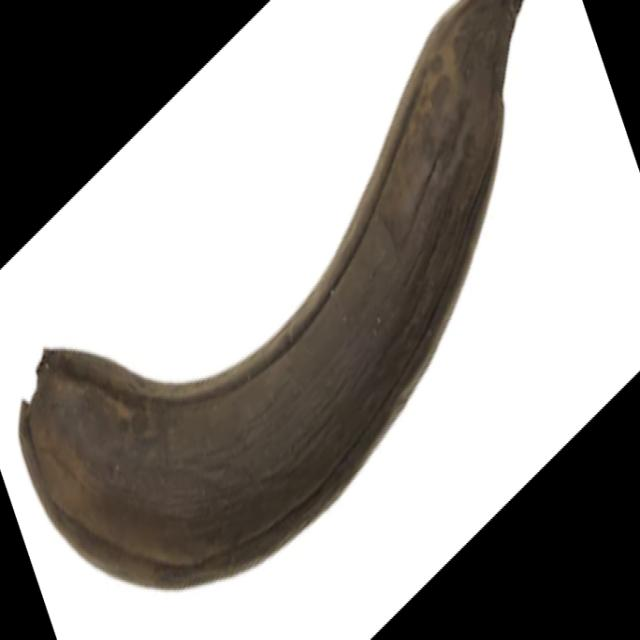Rotten: (20, 0, 527, 590)
